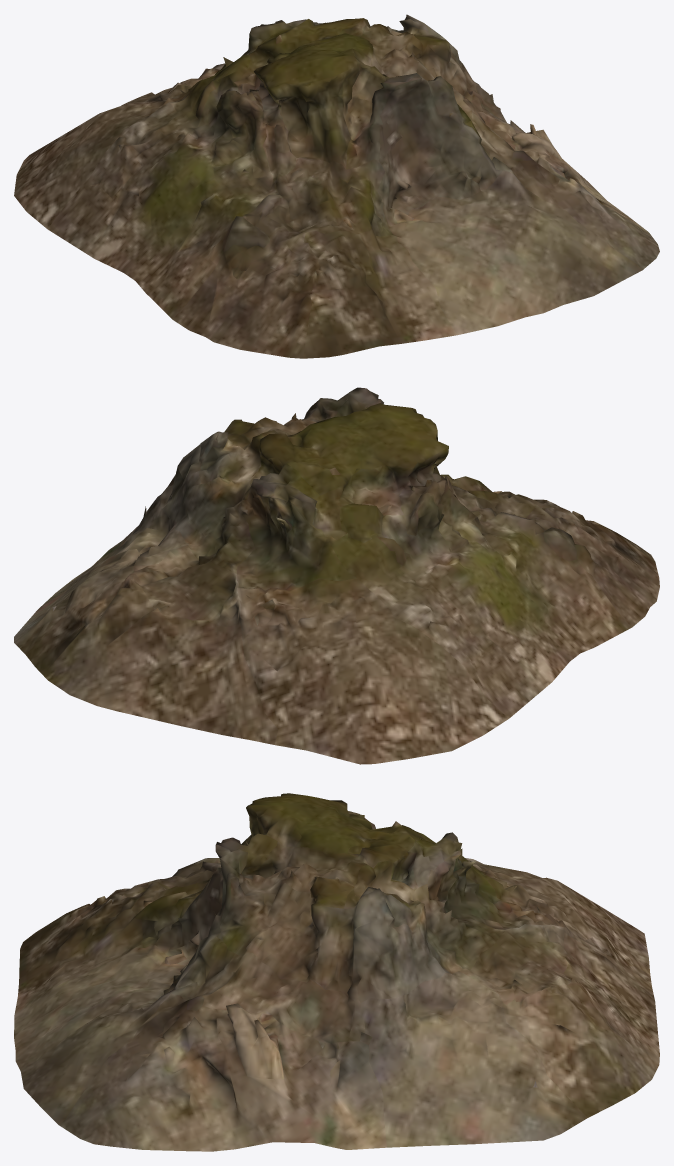
The model's file is stump.glb.
3 views of the same model, one above another, from view 1: azimuth 30°, elevation 25°; view 2: azimuth 150°, elevation 25°; view 3: azimuth 270°, elevation 25° (orthographic). The views are drawn at different scales.
Parts seen in each view (by area): view 1: tree_stump_01; view 2: tree_stump_01; view 3: tree_stump_01.
Boxes of the visible parts, box(x1,y1,x2,y2) form: tree_stump_01: box(14, 14, 659, 358); tree_stump_01: box(14, 387, 659, 764); tree_stump_01: box(14, 793, 659, 1151).
Bounding box in the file's own units: 1.43 × 0.5709 × 1.59.
1 material, 1 textured.
